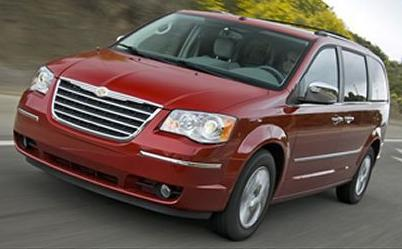front_view: (21, 65, 234, 216)
headlight: (167, 105, 231, 152)
side_glass: (300, 43, 372, 107)
